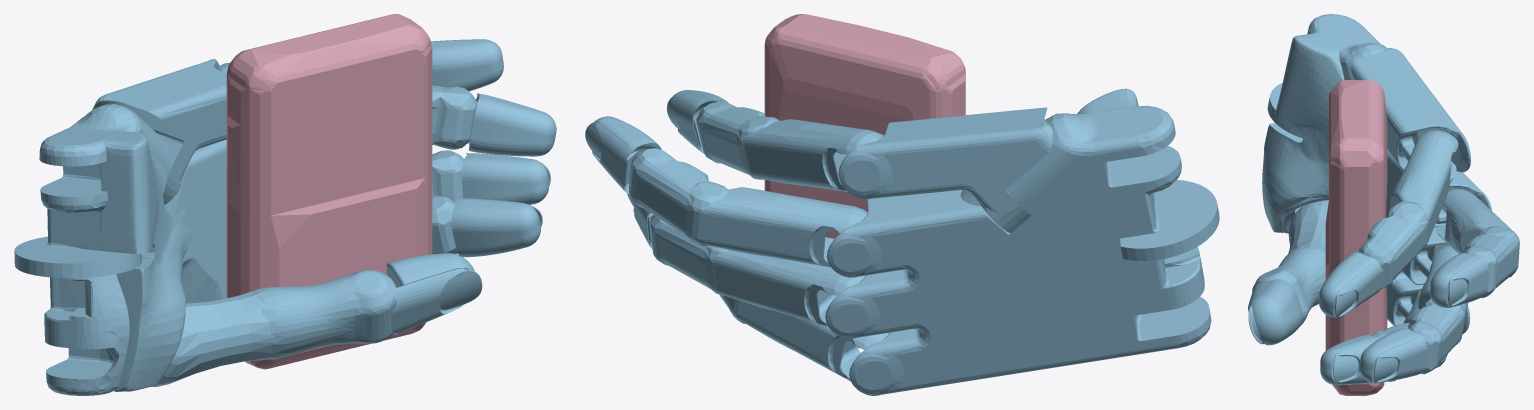
The picture shows the model from 3 angles, left to right: view 1: azimuth 30°, elevation 25°; view 2: azimuth 150°, elevation 25°; view 3: azimuth 270°, elevation 25°; orthographic projection. The views are drawn at different scales.
Parts seen in each view (by area): view 1: hand_isaac_q, world; view 2: hand_isaac_q, world; view 3: hand_isaac_q, world.
Part boxes in pixels (<box>): hand_isaac_q: <box>14,39,556,395</box>; world: <box>226,14,432,369</box>; hand_isaac_q: <box>585,88,1219,395</box>; world: <box>764,14,965,348</box>; hand_isaac_q: <box>1248,14,1519,385</box>; world: <box>1325,80,1387,395</box>.
Size of the model in its own units: 0.1982 by 0.1044 by 0.1004.
